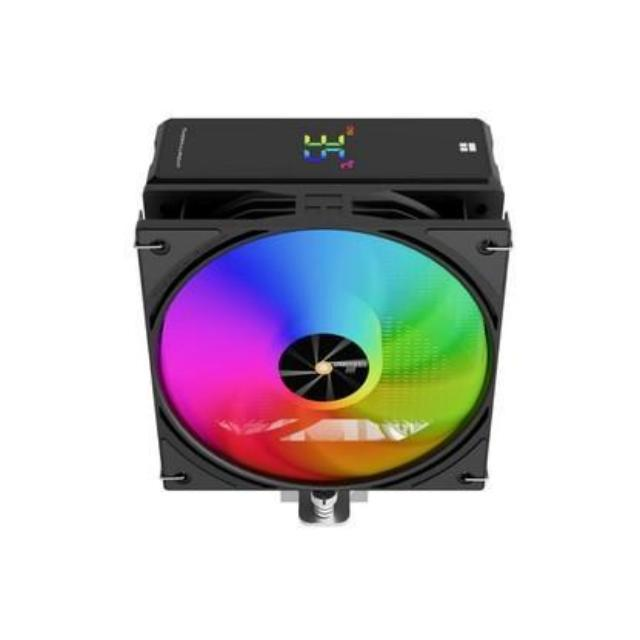CPU_Fan: (124, 104, 522, 530)
